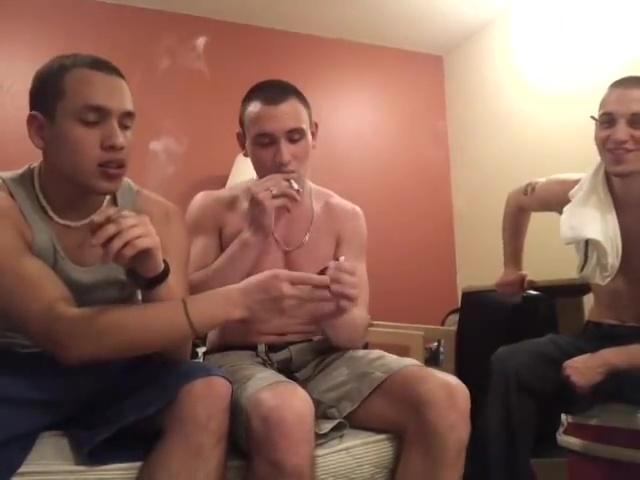cigarette: (105, 187, 145, 224), (286, 176, 306, 196)
